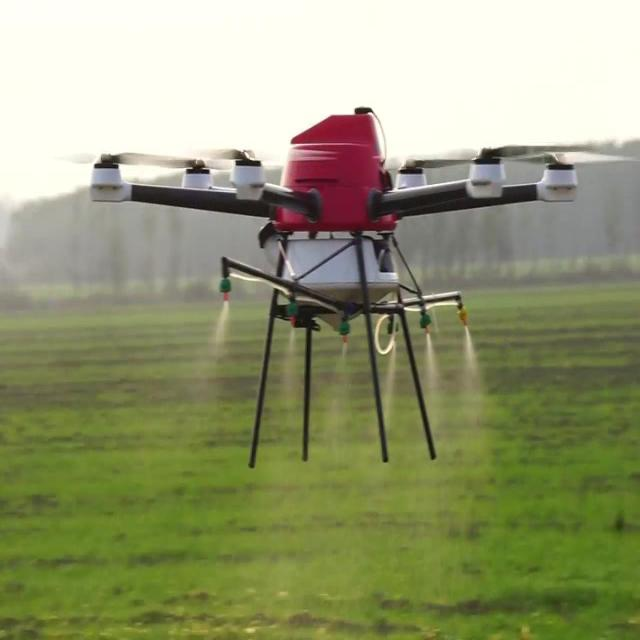drone: (70, 100, 605, 472)
